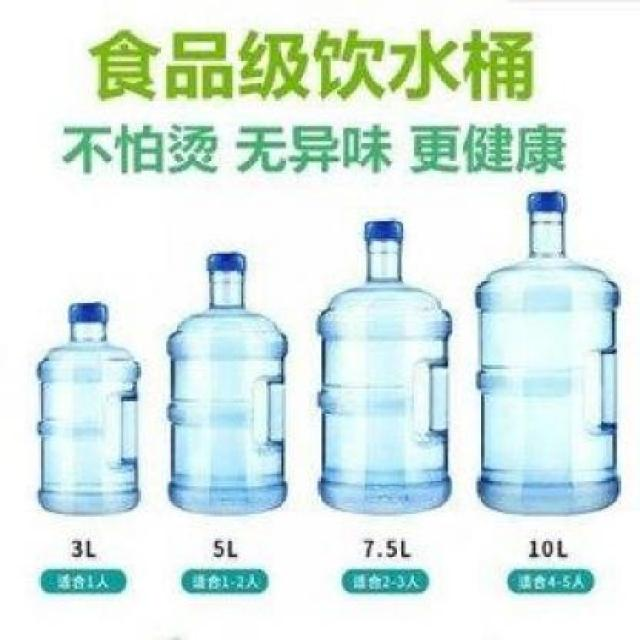coolerbottle: (468, 185, 626, 523), (311, 214, 462, 521), (160, 249, 293, 520), (35, 297, 141, 520)
